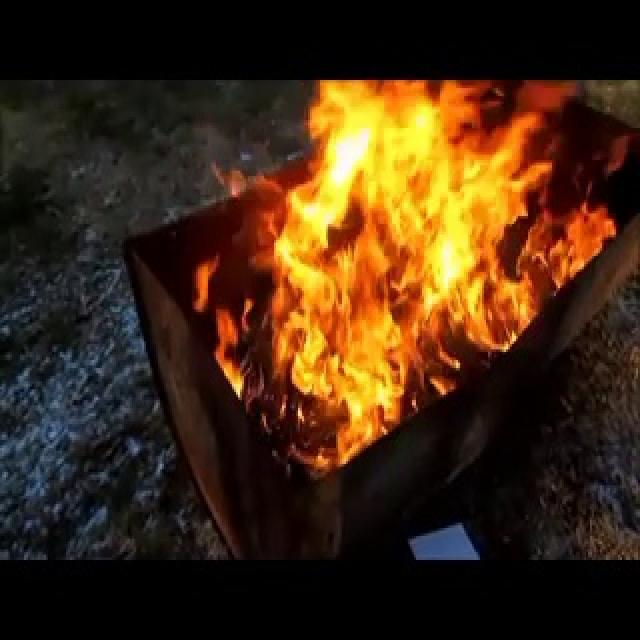fire: (188, 85, 610, 488)
